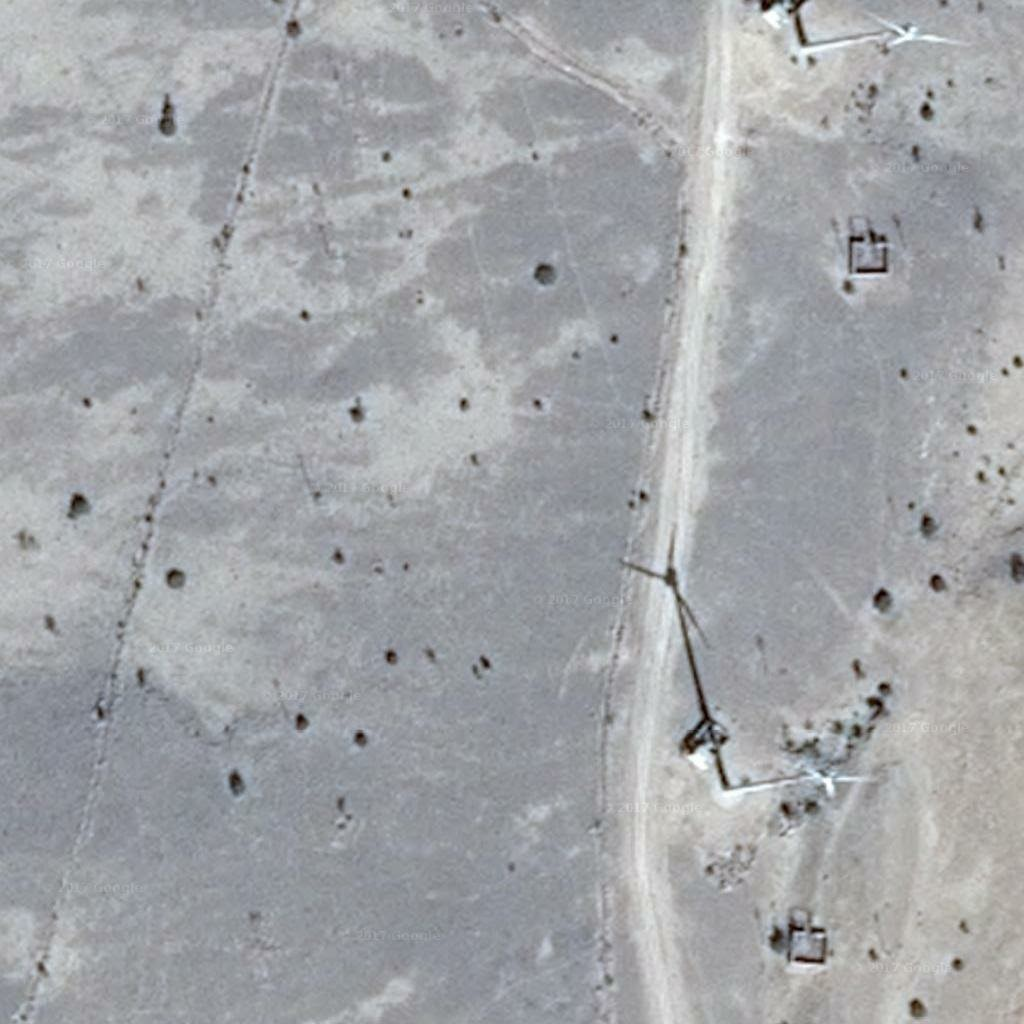Windmill: (618, 527, 727, 725)
